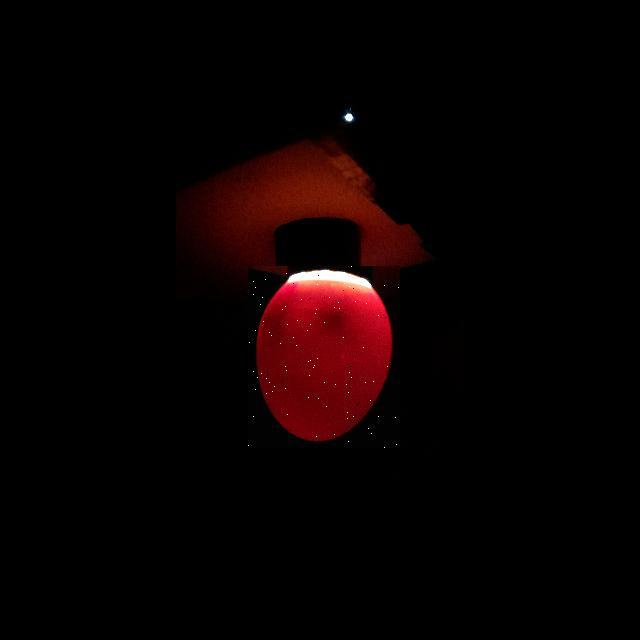Fertile: (248, 266, 400, 448)
